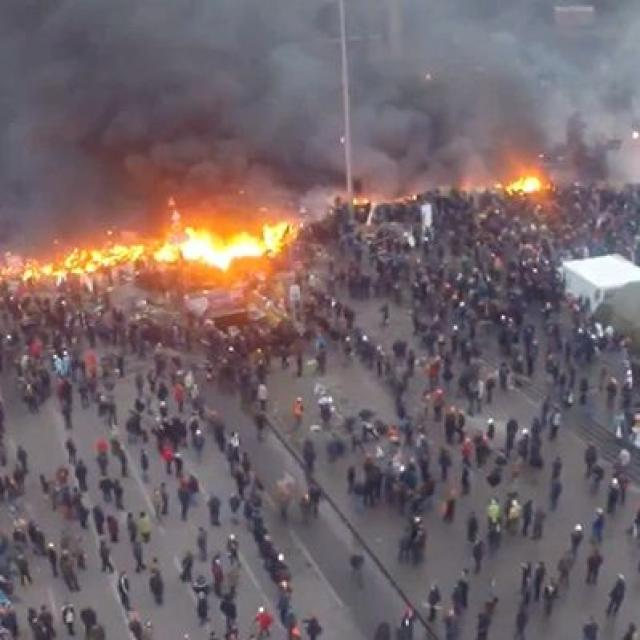Fire: (58, 222, 295, 282), (502, 165, 552, 192)
Smoke: (22, 21, 618, 256)
